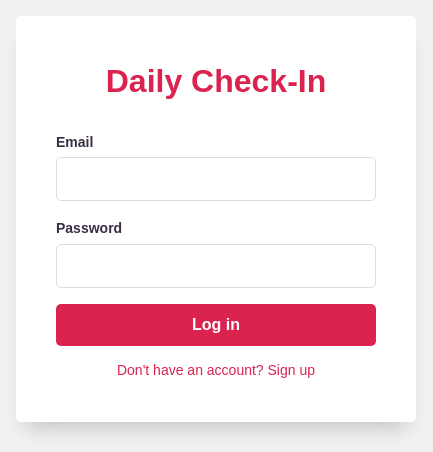
Test: LoginPage › switches to sign-up mode and back
Click the button "Don't have an account? Sign up" at (216,370), box [56,362,376,378]
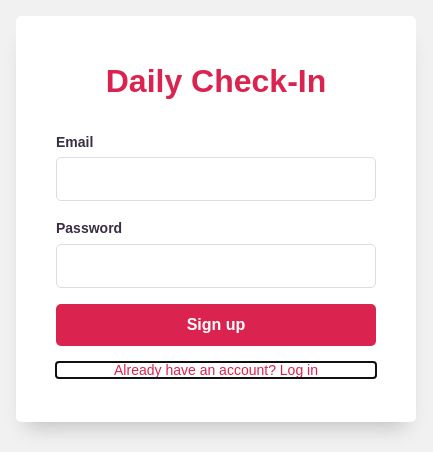
Expected: the button "Sign up" is shown, [56,304,376,346]
Expected: the button "Already have an account? Log in" is shown
Click the button "Already have an account? Log in" at (216,370), box [56,362,376,378]
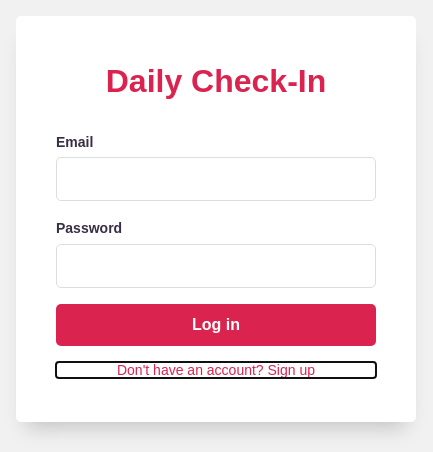
Expected: the button "Log in" is shown, [56,304,376,346]
